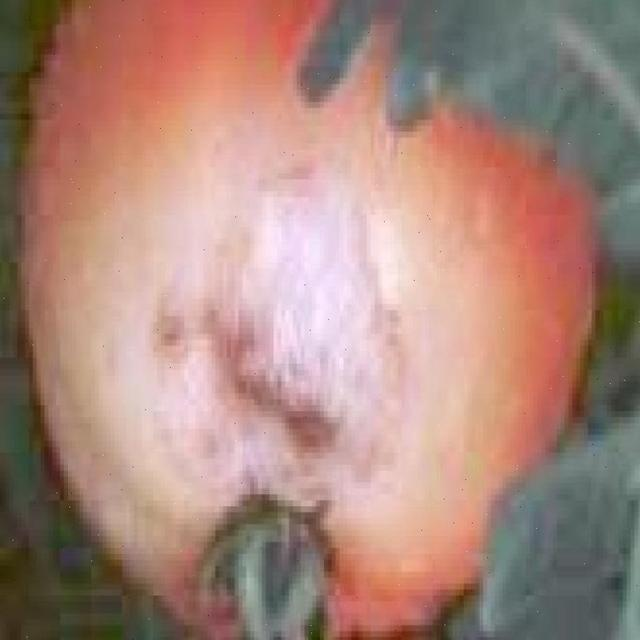Sunscald Fruit: (55, 93, 325, 364)
